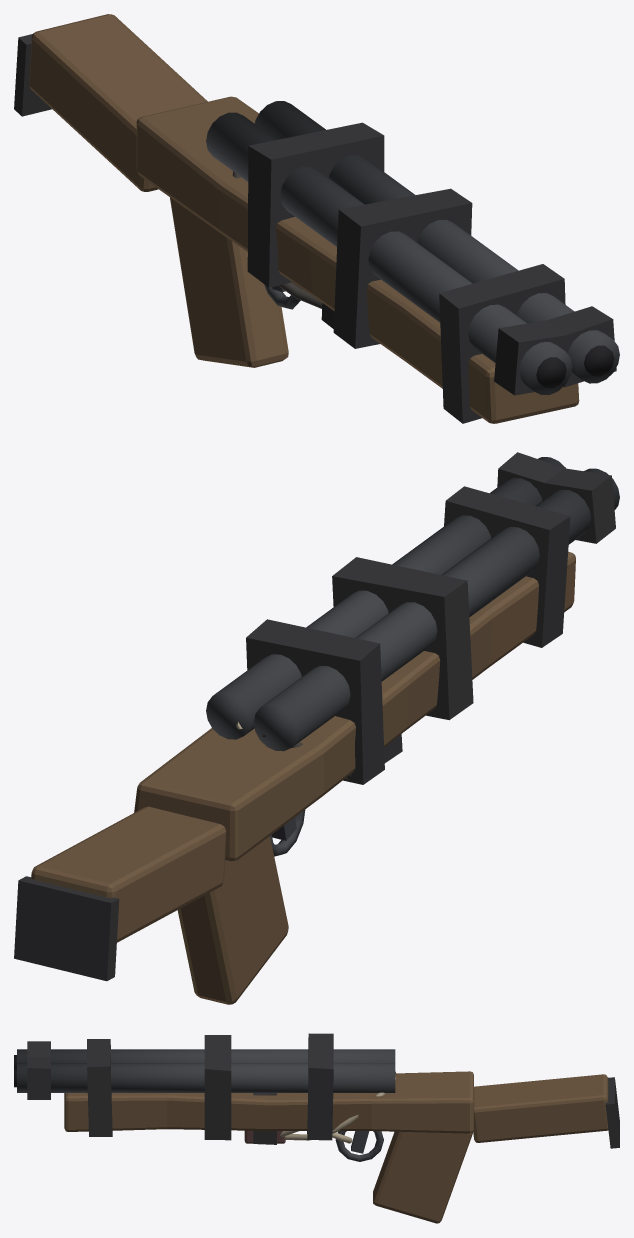
Rendered from grapeshot-gun-glm.glb.
The picture shows the model from 3 angles, top to bottom: view 1: azimuth 30°, elevation 25°; view 2: azimuth 150°, elevation 25°; view 3: azimuth 270°, elevation 25°; orthographic projection. The views are drawn at different scales.
Visible parts, largest first — view 1: Plank, Stock, Pipe0, Grip, Pipe1, BandRear, BandMid, BandFront, MuzzBand0, MuzzBand1, ButtPlate, Bore1 (+1 smaller); view 2: Plank, Stock, Pipe0, Grip, Pipe1, BandMid, ButtPlate, BandRear, BandFront, MuzzBand0, MuzzBand1; view 3: Plank, Pipe1, Stock, Grip, Pipe0, BandMid, BandRear, BandFront, MuzzBand1, ButtPlate, TriggerLoop, MuzzBand0 (+3 smaller).
Part boxes in pixels (x1,y1,x2,y2): Plank: [136, 96, 579, 423]; Stock: [29, 14, 207, 191]; Pipe0: [206, 112, 572, 394]; Grip: [170, 197, 288, 367]; Pipe1: [254, 101, 619, 383]; BandRear: [247, 122, 384, 287]; BandMid: [333, 188, 472, 348]; BandFront: [439, 264, 565, 423]; MuzzBand0: [494, 320, 568, 395]; MuzzBand1: [546, 306, 616, 387]; ButtPlate: [14, 34, 51, 116]; Bore1: [584, 345, 614, 376]; Plank: [134, 552, 575, 861]; Stock: [31, 806, 226, 942]; Pipe0: [253, 468, 619, 751]; Grip: [177, 836, 288, 1004]; Pipe1: [206, 457, 565, 739]; BandMid: [332, 557, 473, 720]; ButtPlate: [14, 876, 119, 981]; BandRear: [246, 619, 384, 784]; BandFront: [444, 486, 570, 647]; MuzzBand0: [542, 468, 615, 543]; MuzzBand1: [497, 452, 564, 500]; Plank: [64, 1071, 473, 1133]; Pipe1: [17, 1063, 395, 1092]; Stock: [473, 1074, 608, 1142]; Grip: [373, 1131, 472, 1223]; Pipe0: [17, 1049, 395, 1062]; BandMid: [204, 1035, 231, 1140]; BandRear: [307, 1033, 333, 1140]; BandFront: [87, 1039, 112, 1136]; MuzzBand1: [27, 1057, 50, 1099]; ButtPlate: [605, 1077, 619, 1148]; TriggerLoop: [335, 1131, 383, 1161]; MuzzBand0: [27, 1041, 50, 1057].
Size of the model in its own units: 0.102 by 0.2384 by 0.7692.
